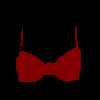reggiseno: (16, 26, 81, 82)
